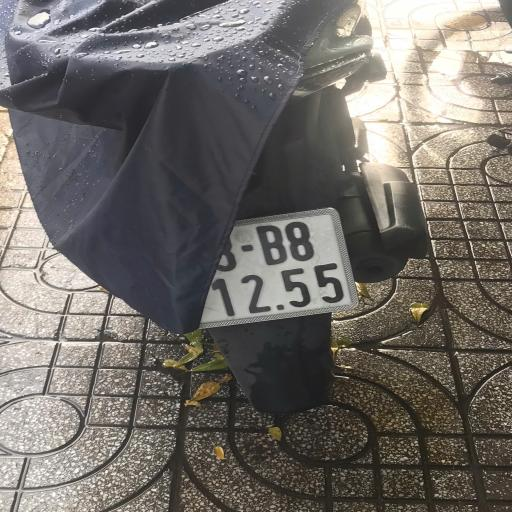1: (207, 277, 246, 330)
2: (241, 269, 273, 322)
5: (312, 259, 359, 313), (275, 269, 323, 315)
8: (284, 214, 330, 264), (201, 228, 241, 276)
B: (248, 223, 291, 271)
